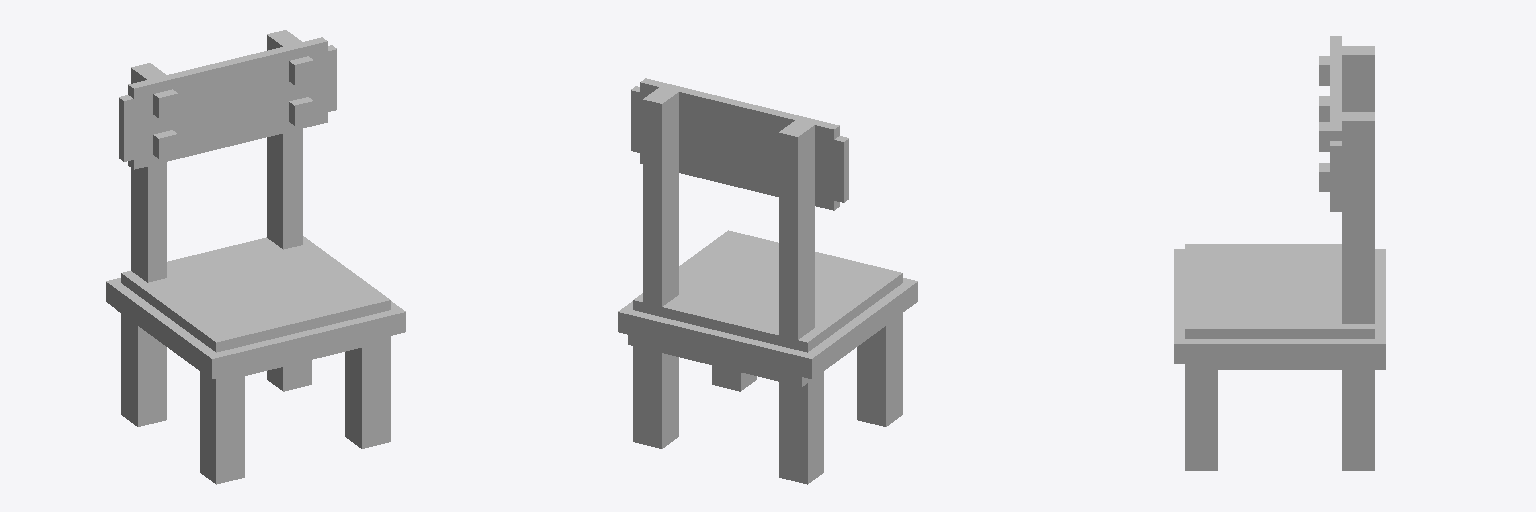
The model's file is chair.obj.
3 renders of one model, left to right at view 1: azimuth 30°, elevation 25°; view 2: azimuth 150°, elevation 25°; view 3: azimuth 270°, elevation 25°, orthographic.
Parts seen in each view (by area): view 1: object 1; view 2: object 1; view 3: object 1.
Part boxes in pixels (x1,y1,x2,y2): object 1: (106, 30, 405, 484); object 1: (618, 78, 917, 484); object 1: (1174, 36, 1385, 470).
Size of the model in its own units: 2.2 by 3.4 by 1.9.